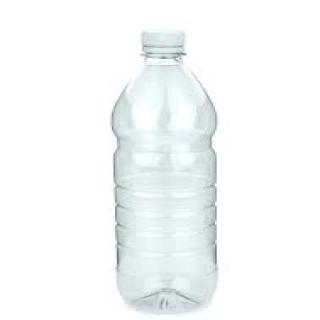Anorganik: (103, 22, 228, 314)
